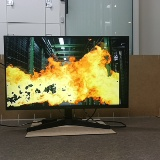fire: (4, 37, 127, 106)
